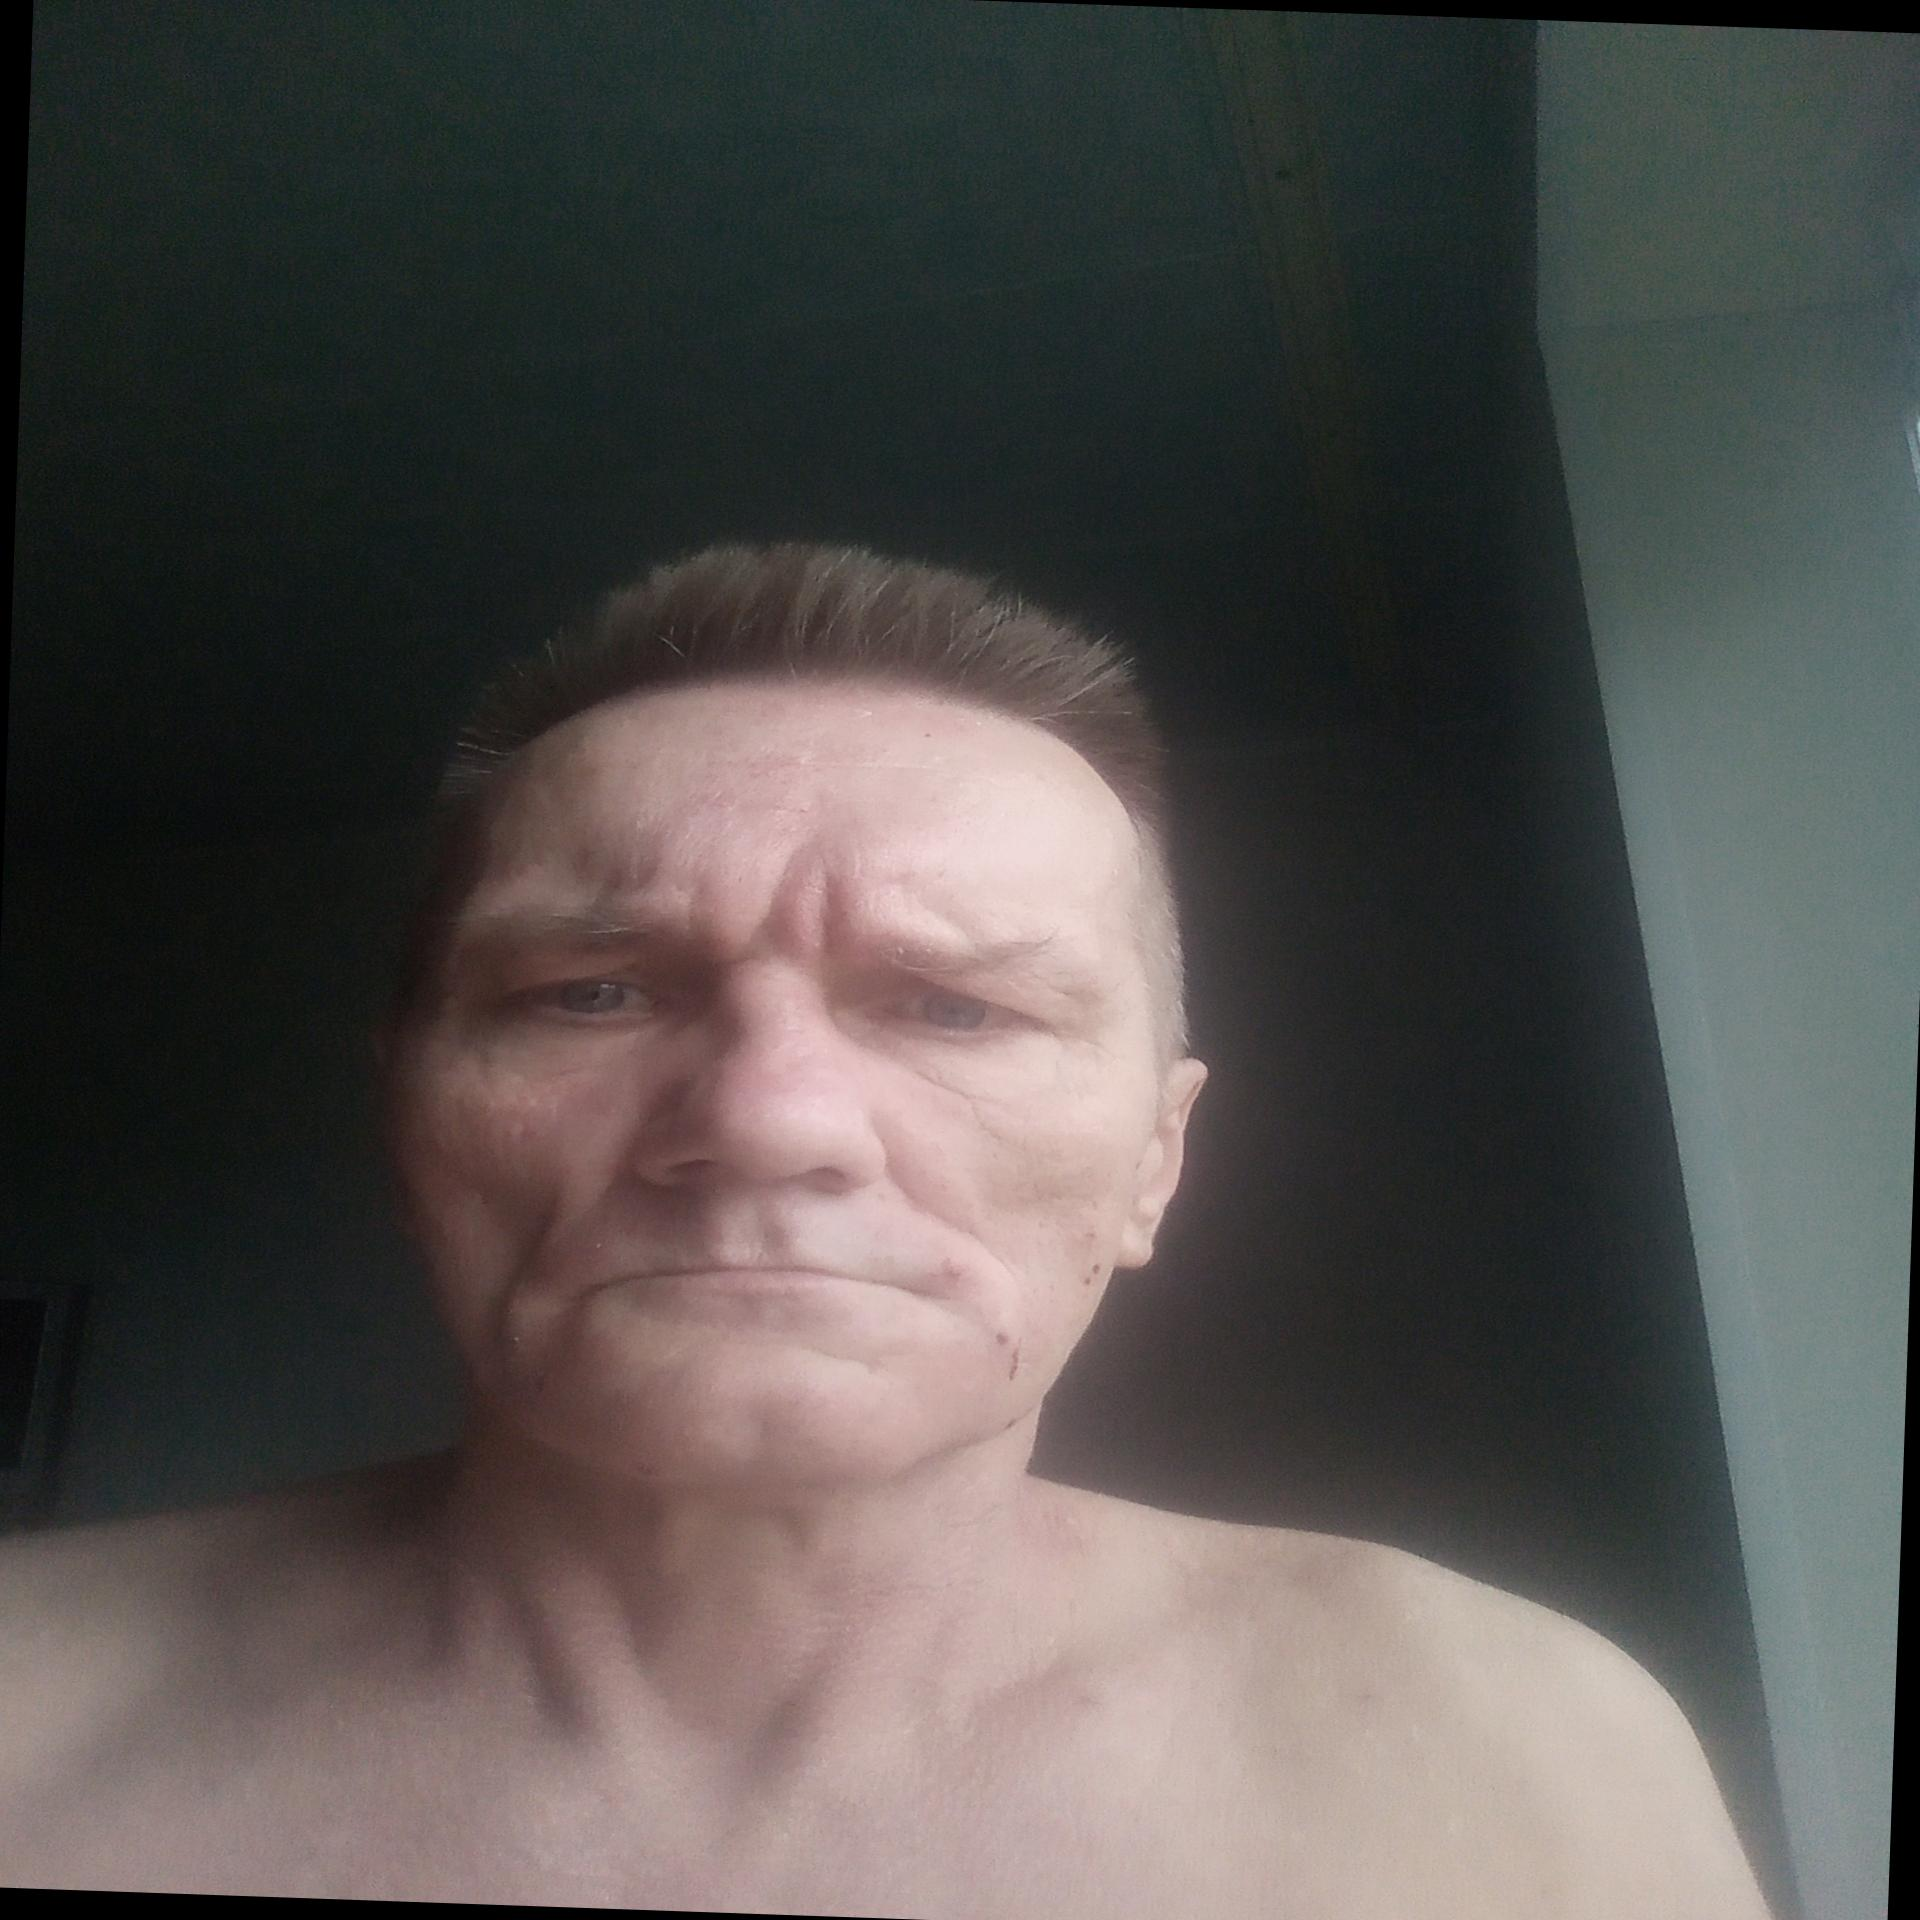Acne: (986, 1327, 1029, 1384), (935, 1254, 967, 1285), (529, 1380, 559, 1407), (1081, 1262, 1102, 1292), (631, 1459, 663, 1479), (1002, 1415, 1013, 1429)
Englarged Pores: (1016, 1157, 1116, 1248)
Wrinkles: (905, 1062, 1044, 1152), (731, 856, 847, 962), (740, 747, 969, 784), (1055, 1004, 1136, 1087), (890, 1185, 990, 1241), (795, 1335, 891, 1382), (976, 1234, 1022, 1284), (742, 1236, 782, 1259)
